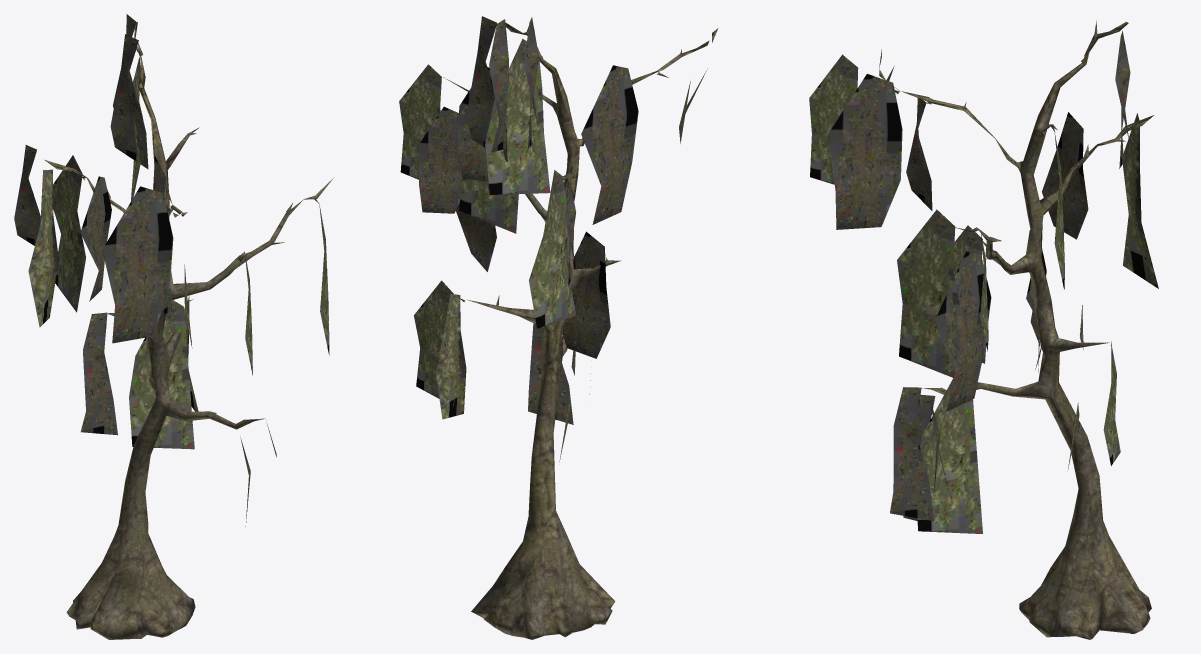
File: swamp-tree-a-mid.glb
3 views of the same model, side by side, from view 1: azimuth 30°, elevation 25°; view 2: azimuth 150°, elevation 25°; view 3: azimuth 270°, elevation 25° (orthographic). The views are drawn at different scales.
Visible parts, largest first — view 1: swamp_tree_a_LOD0; view 2: swamp_tree_a_LOD0; view 3: swamp_tree_a_LOD0.
Boxes of the visible parts, bbox=[...] form: swamp_tree_a_LOD0: bbox=[14, 14, 333, 639]; swamp_tree_a_LOD0: bbox=[399, 16, 718, 639]; swamp_tree_a_LOD0: bbox=[809, 20, 1158, 639].
Size of the model in its own units: 7.99 by 14.39 by 8.02.
Materials: 1 (1 with a texture image).
